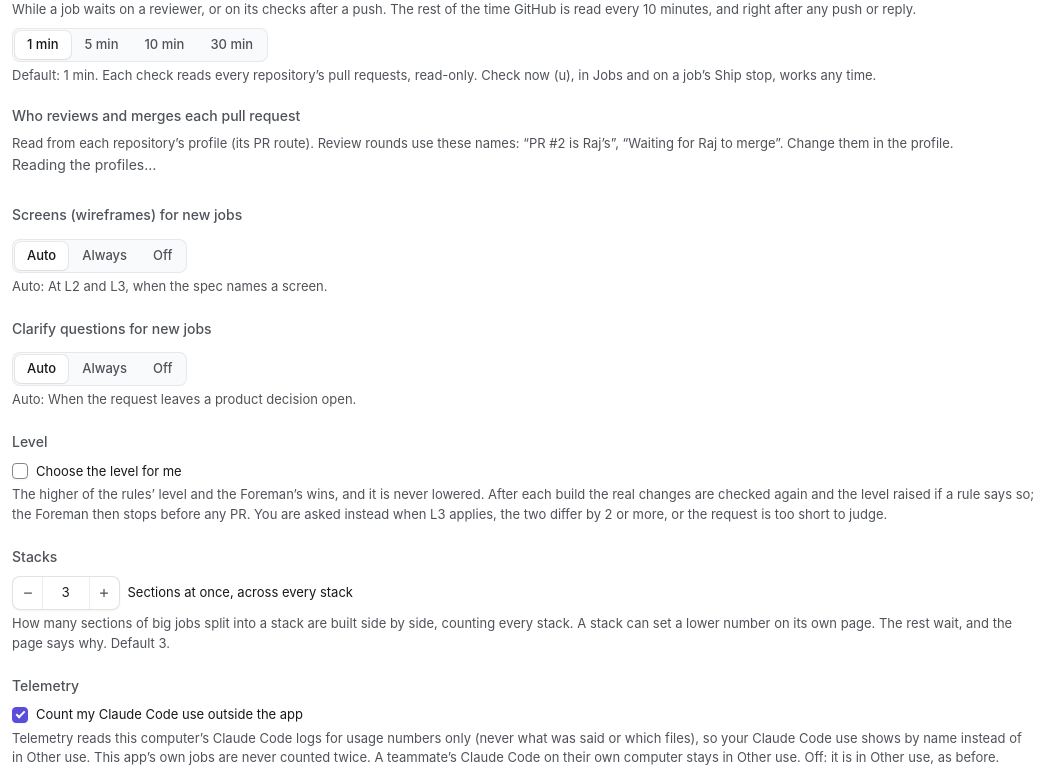
it: Settings → Workflow › Sections at once across every stack: 3 until set, saved through the stacks cap, a plain refusal outside 1 to 20
(page scrolled)
Expected: the text "A stack can set a lower number on its own page" is shown, [12, 615, 1012, 650]
Replace the text in the number field named "Sections at once, across every stack" with "5". click: (66, 593)
box: [43, 577, 88, 609]
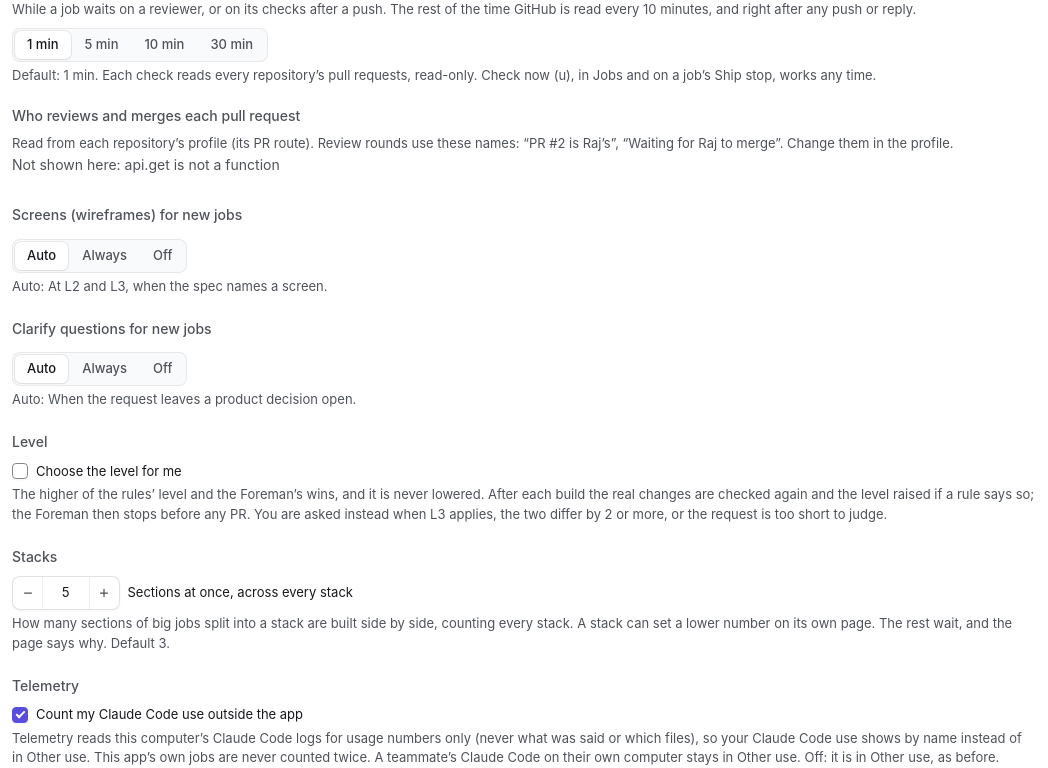
Replace the text in the number field named "Sections at once, across every stack" with "25". click: (66, 593)
box: [43, 577, 88, 609]
(page scrolled)
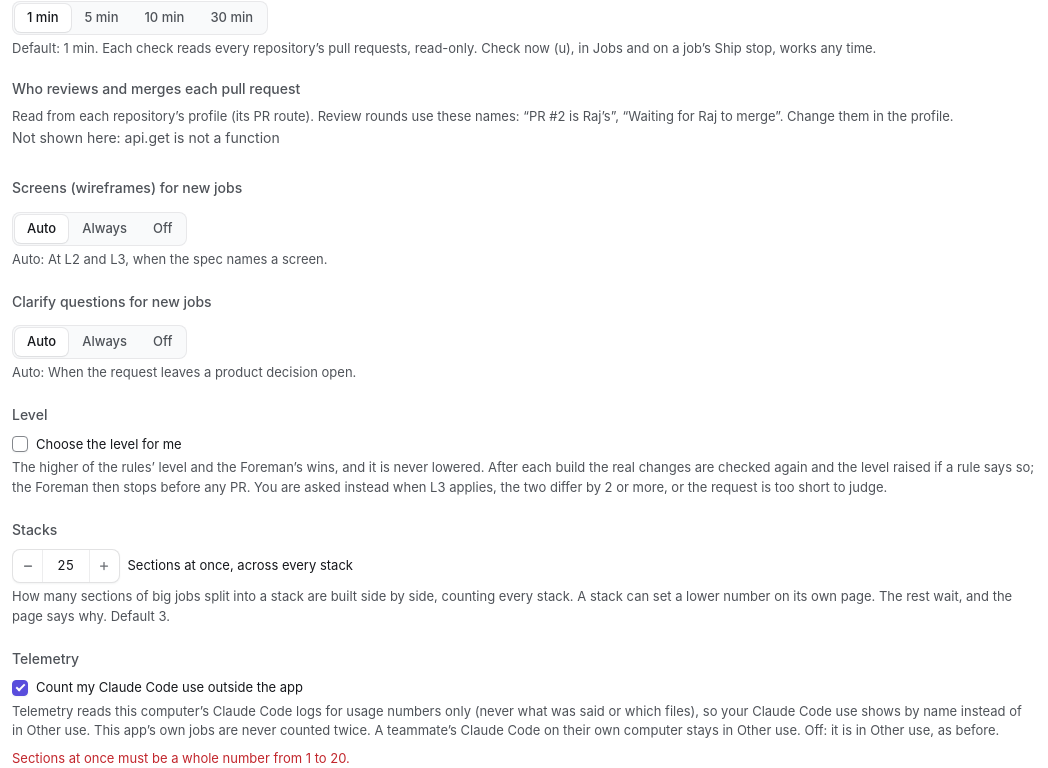
Expected: the message reads "Sections at once must be a whole number from 1 to 20.", [12, 750, 350, 766]
